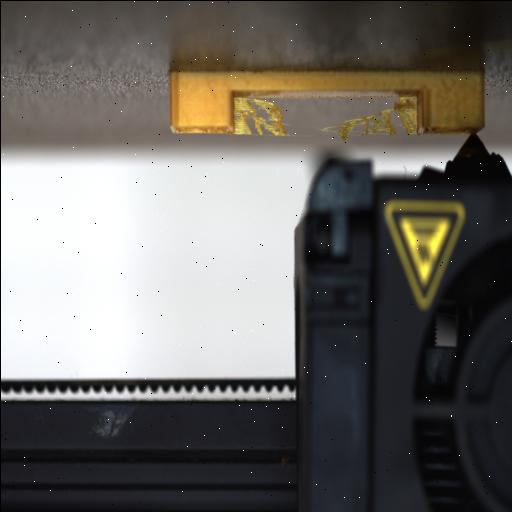stringing: (232, 96, 417, 138)
